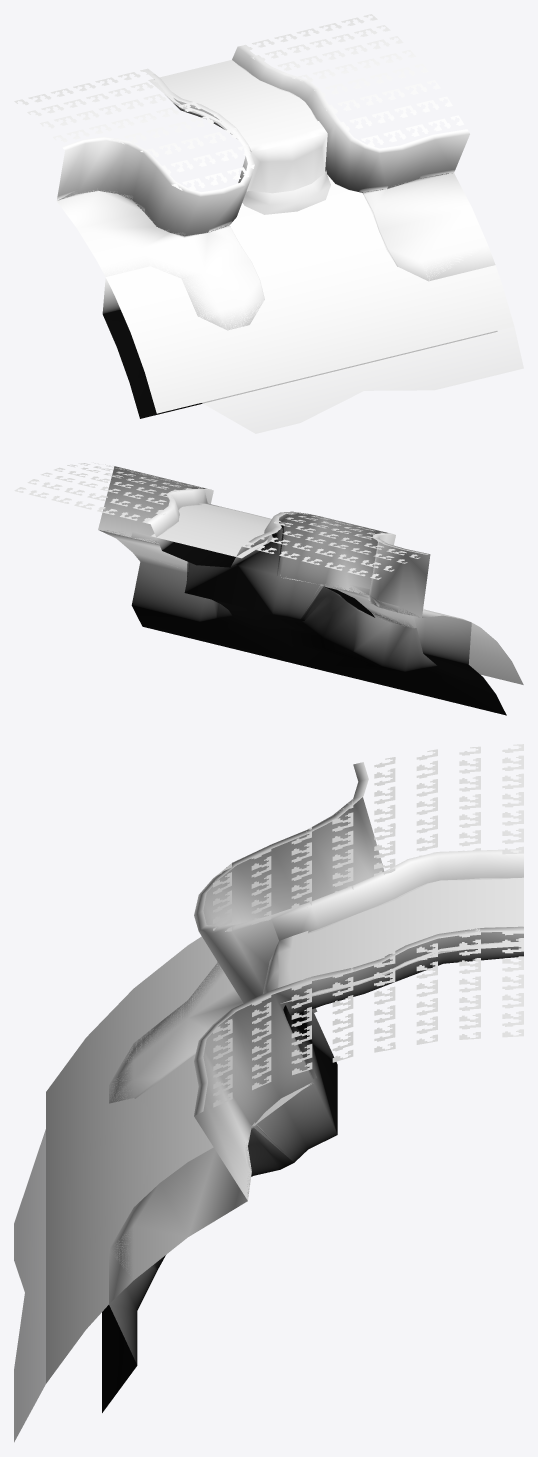
File: grd_Msw_s_R_2.dae
3 renders of one model, top to bottom at view 1: azimuth 30°, elevation 25°; view 2: azimuth 150°, elevation 25°; view 3: azimuth 270°, elevation 25°, orthographic. The views are drawn at different scales.
Visible parts, largest first — view 1: grd_Msw_s_R_2; view 2: grd_Msw_s_R_2; view 3: grd_Msw_s_R_2.
Part boxes in pixels (bbox=[...]): grd_Msw_s_R_2: bbox=[14, 14, 523, 433]; grd_Msw_s_R_2: bbox=[14, 462, 523, 715]; grd_Msw_s_R_2: bbox=[14, 744, 523, 1442].
Bounding box in the file's own units: 512 × 332 × 378.
Materials: 10 (1 with a texture image).
